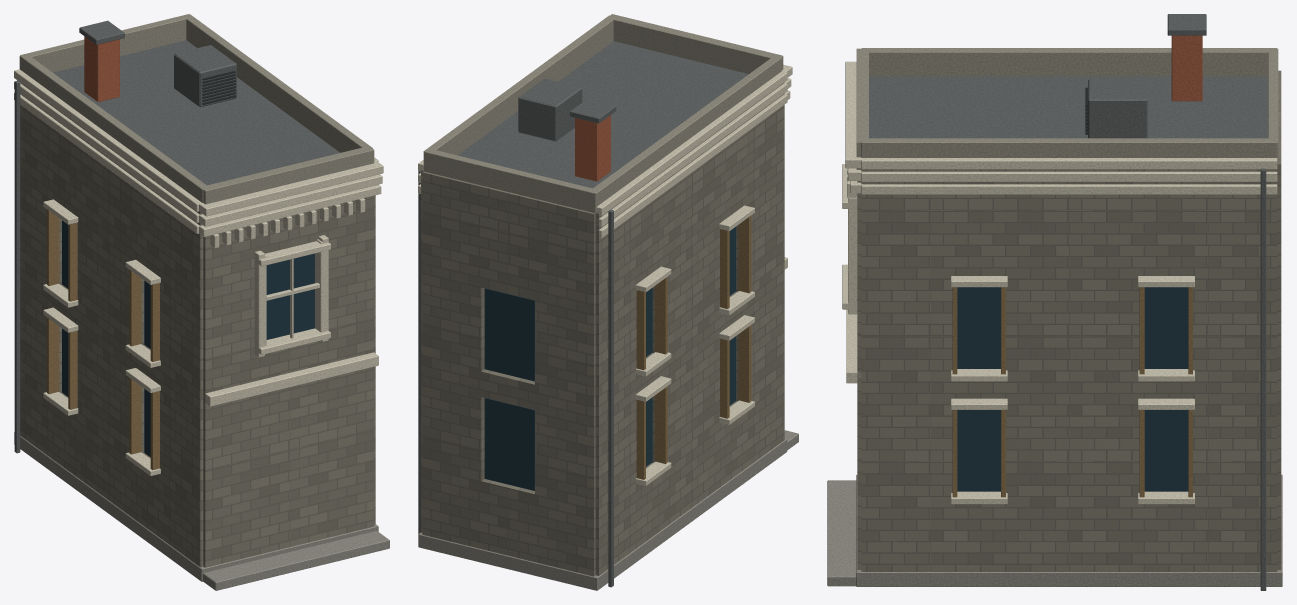
Rendered from WRHS7_lod1.glb.
3 renders of one model, left to right at view 1: azimuth 30°, elevation 25°; view 2: azimuth 150°, elevation 25°; view 3: azimuth 270°, elevation 25°, orthographic. The views are drawn at different scales.
Visible parts, largest first — view 1: WRHS7_LOD1; view 2: WRHS7_LOD1; view 3: WRHS7_LOD1.
Part boxes in pixels (x1,y1,x2,y2): WRHS7_LOD1: (14, 14, 389, 590); WRHS7_LOD1: (418, 14, 798, 590); WRHS7_LOD1: (827, 14, 1282, 590).
Size of the model in its own units: 3.71 by 7.85 by 6.57.
10 materials, 8 textured.
